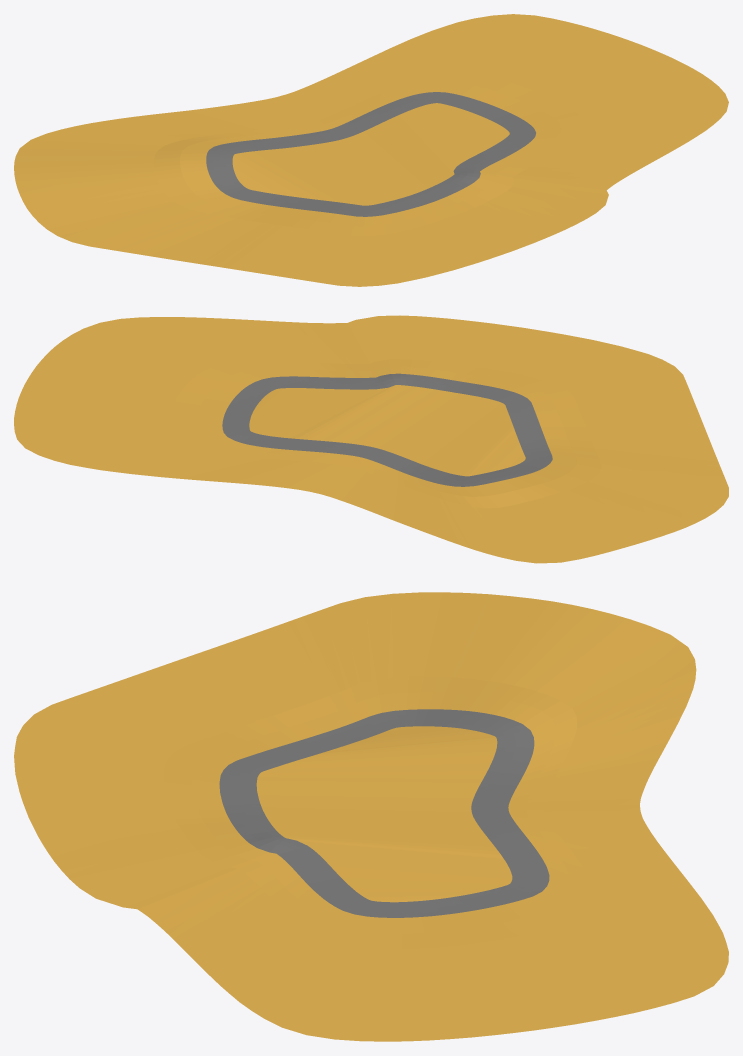
The model's file is world2.glb.
The picture shows the model from 3 angles, top to bottom: view 1: azimuth 30°, elevation 25°; view 2: azimuth 150°, elevation 25°; view 3: azimuth 270°, elevation 25°; orthographic projection. The views are drawn at different scales.
Parts seen in each view (by area): view 1: Road-outside-col, Road-inside-col, Road-col; view 2: Road-outside-col, Road-inside-col, Road-col; view 3: Road-outside-col, Road-inside-col, Road-col.
Part boxes in pixels (x1,y1,x2,y2): Road-outside-col: (14,14,728,286); Road-inside-col: (153,71,586,236); Road-col: (206,92,535,216); Road-outside-col: (14,315,728,563); Road-inside-col: (168,359,601,508); Road-col: (222,373,552,486); Road-outside-col: (14,592,728,1041); Road-inside-col: (164,676,596,949); Road-col: (219,709,549,917).
Size of the model in its own units: 35.24 by 0.3222 by 23.75.
